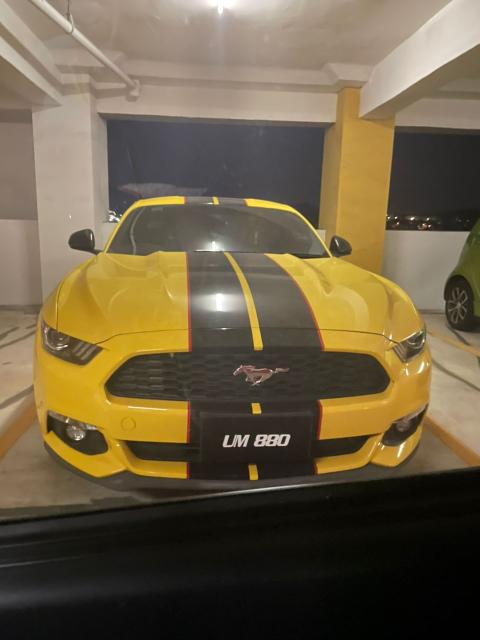License_Plate: (203, 420, 306, 456)
car: (39, 180, 440, 493)
